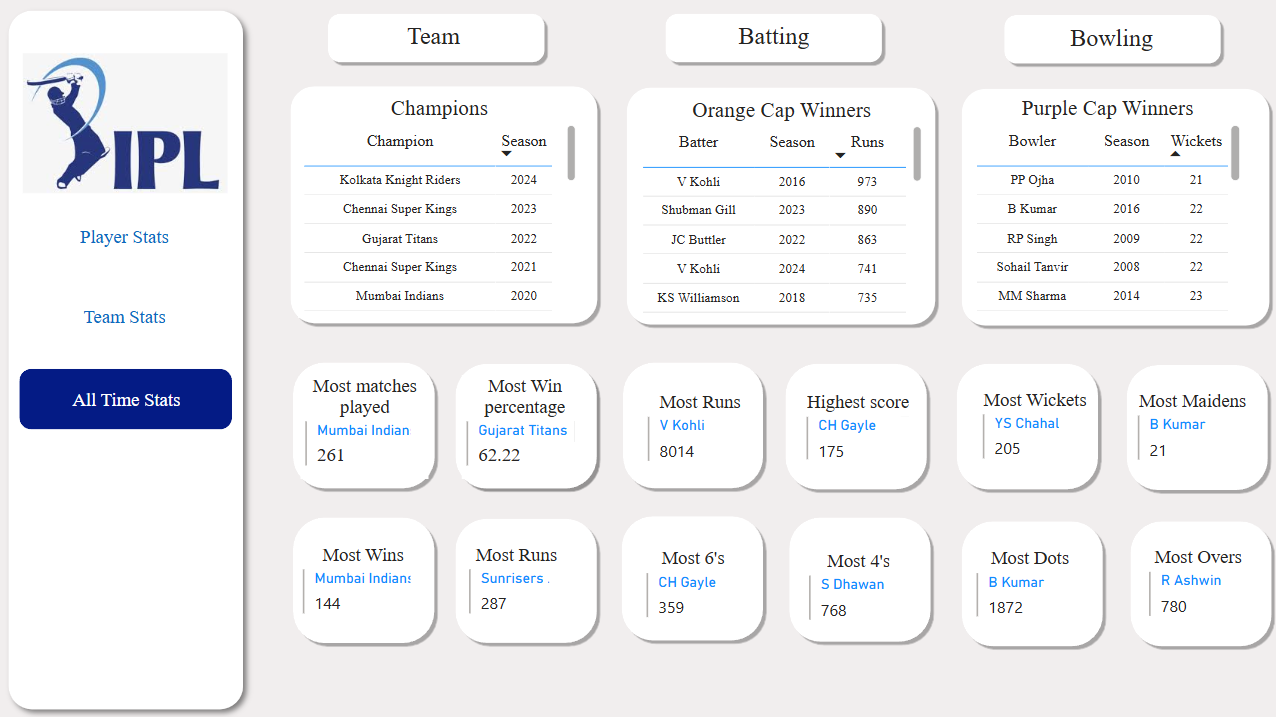

Layout of this report page (visuals, bound fields, positions):
{"tool":"powerbi","page":{"name":"AllTime","canvas":[1280,720],"ordinal":3},"visuals":[{"type":"shape","box":[0,0,255.7,720],"z":0},{"type":"actionButton","box":[20.8,369.3,214,61.1],"z":1000},{"type":"actionButton","box":[18.3,206.7,215.2,61.1],"z":2000},{"type":"image","box":[20,41.4,214.3,164.3],"z":3000},{"type":"actionButton","box":[18.3,286.1,215.2,61.1],"z":4000},{"type":"shape","box":[287.1,81.4,317.1,247.1],"z":5000},{"type":"tableEx","title":"Champions","fields":{"Values":["IPLChampions.Champion","IPLChampions.Season"]},"box":[300,95.7,282.9,221.4],"z":6000},{"type":"shape","box":[624.3,82.9,318.6,247.1],"z":7000},{"type":"tableEx","title":"Orange Cap Winners","fields":{"Values":["TopScorerperSeason.batter","TopScorerperSeason.Season","TopScorerperSeason.TotalRuns"]},"box":[638.6,97.1,290,220],"z":8000},{"type":"shape","box":[958.7,83.2,317.9,247],"z":9000},{"type":"tableEx","title":"Purple Cap Winners","fields":{"Values":["TopWicketTakerPerSeason.bowler","TopWicketTakerPerSeason.Season","TopWicketTakerPerSeason.TotalWickets"]},"box":[972.9,95.7,274.3,221.4],"z":10000},{"type":"shape","box":[290,512.9,151.4,135.7],"z":11000},{"type":"multiRowCard","title":"Most Wins","fields":{"Values":["matches.Total Wins","AllTeams.Team"]},"box":[300,544.3,130,85.7],"z":12000},{"type":"shape","box":[452.9,514.3,151.4,134.3],"z":13000},{"type":"shape","box":[452.9,358.6,151.4,135],"z":14000},{"type":"multiRowCard","title":"Most Win percentage","fields":{"Values":["matches.Win %","AllTeams.Team"]},"box":[464.2,375.3,126,103.9],"z":15000},{"type":"shape","box":[290,356.9,151.6,135.7],"z":16000},{"type":"multiRowCard","title":"Most matches played","fields":{"Values":["MatchesPlayedByTeam.MatchesPlayed","MatchesPlayedByTeam.team"]},"box":[302.2,375.2,128.4,103.9],"z":17000},{"type":"multiRowCard","title":"Most Runs ","fields":{"Values":["TeamScoresByMatch.TeamTotal","TeamScoresByMatch.batting_team","TeamScoresByMatch.match_id"]},"box":[465.9,544.2,103.9,74.6],"z":18000},{"type":"shape","box":[412.3,418,18.3,37.9],"z":19000},{"type":"shape","box":[634.7,548.8,12.9,54.3],"z":20000},{"type":"shape","box":[576.7,405.9,13.5,55],"z":21000},{"type":"shape","box":[412.9,562.9,17.1,50],"z":22000},{"type":"shape","box":[551.5,562.5,25.7,58.7],"z":23000},{"type":"shape","box":[620,357.1,150,135.7],"z":24000},{"type":"multiRowCard","title":"Most Runs ","fields":{"Values":["AllRunScorers.TotalRuns","AllRunScorers.batter"]},"box":[644.4,391.1,113.7,75.8],"z":25000},{"type":"shape","box":[743.5,411.9,14.7,55],"z":26000},{"type":"shape","box":[786.3,512.9,151.4,134.3],"z":27000},{"type":"multiRowCard","title":"Most 4''s","fields":{"Values":["FoursByBatsman.TotalFours","FoursByBatsman.batter"]},"box":[806.3,549.8,108.8,77.5],"z":28000},{"type":"shape","box":[894.7,420.1,17.1,54.3],"z":29000},{"type":"shape","box":[618.3,511.7,151.4,134.3],"z":30000},{"type":"multiRowCard","title":"Most 6''s","fields":{"Values":["SixesByBatsman.TotalSixes","SixesByBatsman.batter"]},"box":[643.3,547.4,102.5,82.5],"z":31000},{"type":"shape","box":[730.8,566.1,15,53.8],"z":32000},{"type":"shape","box":[891.2,561.1,24.5,42.8],"z":33000},{"type":"shape","box":[782.9,358.6,151.4,135.7],"z":34000},{"type":"multiRowCard","title":"Highest score","fields":{"Values":["IndividualScoresByMatch.Runs","IndividualScoresByMatch.batter"]},"box":[803.4,391.1,112.5,73.4],"z":35000},{"type":"shape","box":[895.4,416,21.2,46.2],"z":36000},{"type":"shape","box":[954.3,358.6,151.4,135.7],"z":37000},{"type":"multiRowCard","title":"Most Wickets","fields":{"Values":["matches.Total Wickets by Bowler","deliveries.bowler"]},"box":[980,388.8,113.8,77.5],"z":38000},{"type":"shape","box":[1073.8,410,20,41.2],"z":39000},{"type":"shape","box":[1123.8,360,151,135],"z":40000},{"type":"multiRowCard","title":"Most Maidens","fields":{"Values":["matches.MaidensBowled","deliveries.bowler"]},"box":[1135,390,118.8,76.2],"z":41000},{"type":"shape","box":[1226.2,411.2,27.5,42.5],"z":42000},{"type":"shape","box":[958.6,515.7,151,135],"z":43000},{"type":"multiRowCard","title":"Most Dots","fields":{"Values":["matches.DotBallsBySelectedBowler","deliveries.bowler"]},"box":[973.8,547.5,116.2,73.8],"z":44000},{"type":"shape","box":[1073.8,571.2,18.8,45],"z":45000},{"type":"shape","box":[1127.1,515.7,151,135],"z":46000},{"type":"multiRowCard","title":"Most Overs","fields":{"Values":["matches.TotalOversBowled","deliveries.bowler"]},"box":[1146.2,546.2,107.5,82.5],"z":47000},{"type":"shape","box":[1237.5,568.8,16.2,31.2],"z":48000},{"type":"shape","box":[325.3,8.6,226.2,58.7],"z":49000},{"type":"textbox","box":[339.9,17.1,196.9,37.9],"z":50000},{"type":"shape","box":[662.5,8.8,226.2,58.7],"z":51000},{"type":"textbox","box":[677.1,17.3,196.9,37.9],"z":52000},{"type":"shape","box":[1001.6,10.1,226.2,58.7],"z":53000},{"type":"textbox","box":[1014.9,19.7,197.1,38.6],"z":54000}]}

Visuals, with their boxes in screenshot pixels (x1, y1, x2, y2), scaled from the page's 1280x720 canvas onto the 1276x717 screenshot:
shape: (x1=0, y1=0, x2=255, y2=716)
actionButton: (x1=21, y1=368, x2=234, y2=429)
actionButton: (x1=18, y1=206, x2=233, y2=267)
image: (x1=20, y1=41, x2=234, y2=205)
actionButton: (x1=18, y1=285, x2=233, y2=346)
shape: (x1=286, y1=81, x2=602, y2=327)
"Champions" tableEx: (x1=299, y1=95, x2=581, y2=316)
shape: (x1=622, y1=83, x2=940, y2=329)
"Orange Cap Winners" tableEx: (x1=637, y1=97, x2=926, y2=316)
shape: (x1=956, y1=83, x2=1273, y2=329)
"Purple Cap Winners" tableEx: (x1=970, y1=95, x2=1243, y2=316)
shape: (x1=289, y1=511, x2=440, y2=646)
"Most Wins" multiRowCard: (x1=299, y1=542, x2=429, y2=627)
shape: (x1=451, y1=512, x2=602, y2=646)
shape: (x1=451, y1=357, x2=602, y2=492)
"Most Win percentage" multiRowCard: (x1=463, y1=374, x2=588, y2=477)
shape: (x1=289, y1=355, x2=440, y2=491)
"Most matches played" multiRowCard: (x1=301, y1=374, x2=429, y2=477)
"Most Runs " multiRowCard: (x1=464, y1=542, x2=568, y2=616)
shape: (x1=411, y1=416, x2=429, y2=454)
shape: (x1=633, y1=547, x2=646, y2=601)
shape: (x1=575, y1=404, x2=588, y2=459)
shape: (x1=412, y1=561, x2=429, y2=610)
shape: (x1=550, y1=560, x2=575, y2=619)
shape: (x1=618, y1=356, x2=768, y2=491)
"Most Runs " multiRowCard: (x1=642, y1=389, x2=756, y2=465)
shape: (x1=741, y1=410, x2=756, y2=465)
shape: (x1=784, y1=511, x2=935, y2=645)
"Most 4''s" multiRowCard: (x1=804, y1=548, x2=912, y2=625)
shape: (x1=892, y1=418, x2=909, y2=472)
shape: (x1=616, y1=510, x2=767, y2=643)
"Most 6''s" multiRowCard: (x1=641, y1=545, x2=743, y2=627)
shape: (x1=729, y1=564, x2=743, y2=617)
shape: (x1=888, y1=559, x2=913, y2=601)
shape: (x1=780, y1=357, x2=931, y2=492)
"Highest score" multiRowCard: (x1=801, y1=389, x2=913, y2=463)
shape: (x1=893, y1=414, x2=914, y2=460)
shape: (x1=951, y1=357, x2=1102, y2=492)
"Most Wickets" multiRowCard: (x1=977, y1=387, x2=1090, y2=464)
shape: (x1=1070, y1=408, x2=1090, y2=449)
shape: (x1=1120, y1=358, x2=1271, y2=493)
"Most Maidens" multiRowCard: (x1=1131, y1=388, x2=1250, y2=464)
shape: (x1=1222, y1=409, x2=1250, y2=452)
shape: (x1=956, y1=514, x2=1106, y2=648)
"Most Dots" multiRowCard: (x1=971, y1=545, x2=1087, y2=619)
shape: (x1=1070, y1=569, x2=1089, y2=614)
shape: (x1=1124, y1=514, x2=1274, y2=648)
"Most Overs" multiRowCard: (x1=1143, y1=544, x2=1250, y2=626)
shape: (x1=1234, y1=566, x2=1250, y2=598)
shape: (x1=324, y1=9, x2=550, y2=67)
textbox: (x1=339, y1=17, x2=535, y2=55)
shape: (x1=660, y1=9, x2=886, y2=67)
textbox: (x1=675, y1=17, x2=871, y2=55)
shape: (x1=998, y1=10, x2=1224, y2=69)
textbox: (x1=1012, y1=20, x2=1208, y2=58)
